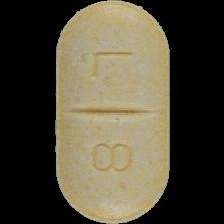53808-0608: (0, 0, 224, 224)
